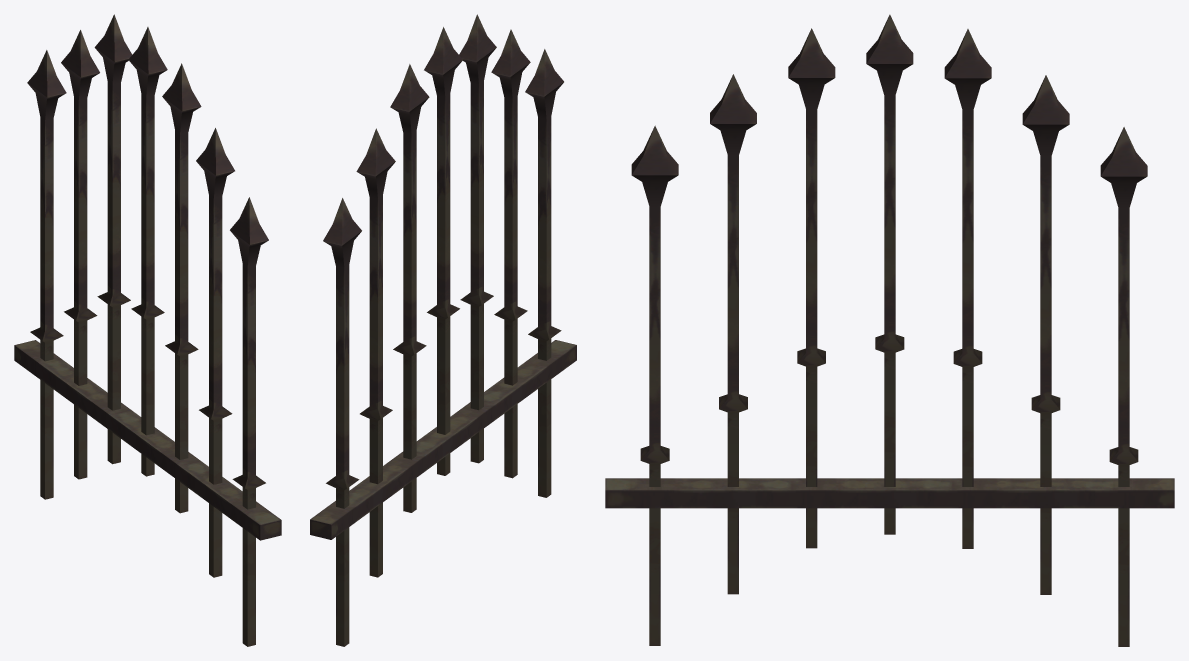
The model's file is SpikeDoor.fbx.
3 renders of one model, left to right at view 1: azimuth 30°, elevation 25°; view 2: azimuth 150°, elevation 25°; view 3: azimuth 270°, elevation 25°, orthographic. The views are drawn at different scales.
Visible parts, largest first — view 1: fenceBar, spikeFenceCentral (6), spikeFenceCentral (3), spikeFenceCentral (4), spikeFenceCentral, spikeFenceCentral (2), spikeFenceCentral (5), spikeFenceCentral (1); view 2: fenceBar, spikeFenceCentral (3), spikeFenceCentral, spikeFenceCentral (1), spikeFenceCentral (5), spikeFenceCentral (6), spikeFenceCentral (2), spikeFenceCentral (4); view 3: fenceBar, spikeFenceCentral, spikeFenceCentral (1), spikeFenceCentral (6), spikeFenceCentral (3), spikeFenceCentral (2), spikeFenceCentral (4), spikeFenceCentral (5).
Part boxes in pixels (left/top/right/bottom): fenceBar: left=14, top=340, right=281, bottom=540; spikeFenceCentral (6): left=230, top=197, right=268, bottom=646; spikeFenceCentral (3): left=27, top=50, right=66, bottom=499; spikeFenceCentral (4): left=162, top=63, right=201, bottom=513; spikeFenceCentral: left=128, top=27, right=167, bottom=476; spikeFenceCentral (2): left=61, top=30, right=99, bottom=479; spikeFenceCentral (5): left=196, top=128, right=234, bottom=577; spikeFenceCentral (1): left=94, top=14, right=132, bottom=464; fenceBar: left=310, top=340, right=576, bottom=539; spikeFenceCentral (3): left=323, top=198, right=361, bottom=646; spikeFenceCentral: left=424, top=27, right=462, bottom=475; spikeFenceCentral (1): left=390, top=64, right=429, bottom=512; spikeFenceCentral (5): left=491, top=29, right=530, bottom=478; spikeFenceCentral (6): left=525, top=49, right=563, bottom=497; spikeFenceCentral (2): left=356, top=128, right=395, bottom=577; spikeFenceCentral (4): left=459, top=14, right=496, bottom=463; fenceBar: left=605, top=478, right=1174, bottom=508; spikeFenceCentral: left=866, top=14, right=913, bottom=534; spikeFenceCentral (1): left=944, top=29, right=991, bottom=548; spikeFenceCentral (6): left=631, top=125, right=678, bottom=645; spikeFenceCentral (3): left=1100, top=127, right=1147, bottom=646; spikeFenceCentral (2): left=1022, top=75, right=1069, bottom=594; spikeFenceCentral (4): left=788, top=28, right=835, bottom=548; spikeFenceCentral (5): left=710, top=74, right=756, bottom=594.
Size of the model in its own units: 36.91 by 890 by 729.
Materials: 1 (1 with a texture image).
